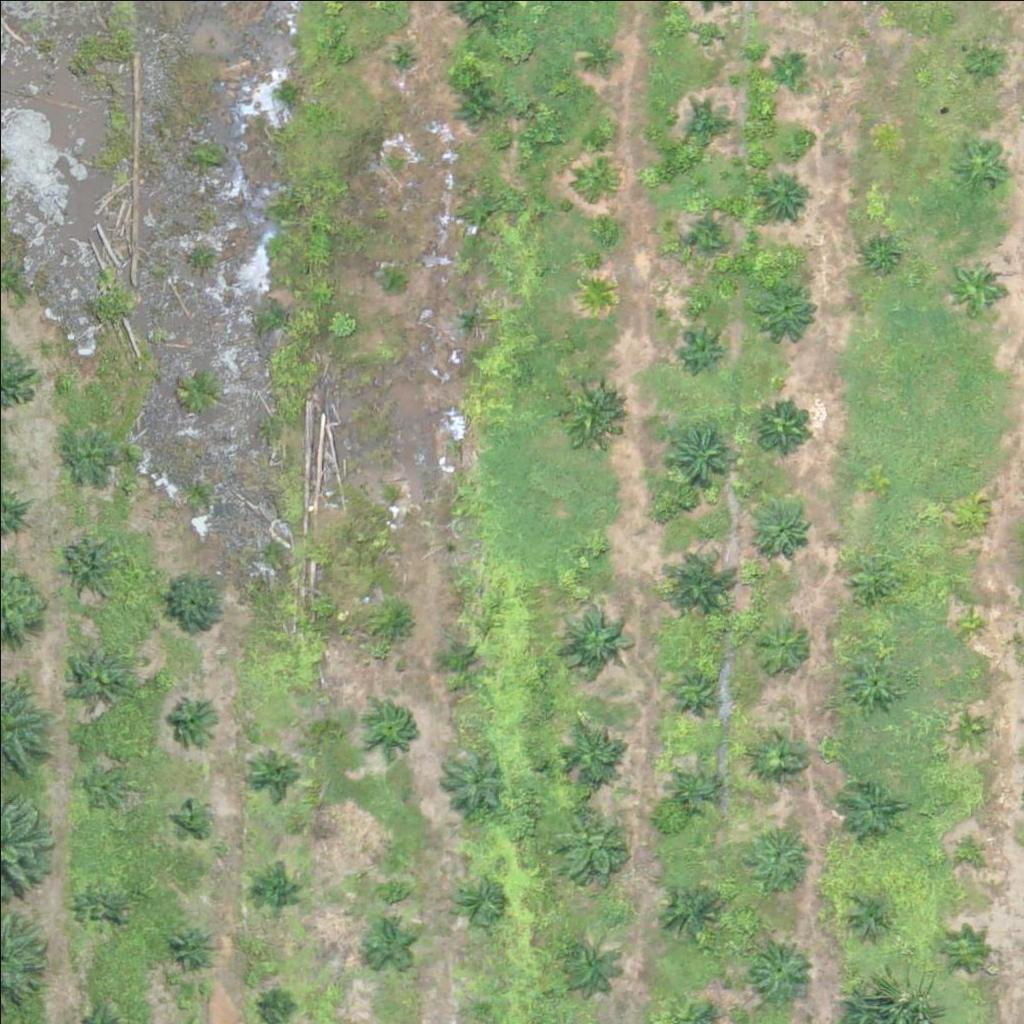Kelapa_Sawit: (655, 538, 742, 626), (559, 599, 634, 675), (664, 420, 739, 495), (951, 132, 1014, 195), (753, 614, 816, 677), (748, 821, 811, 884), (750, 497, 813, 560), (56, 531, 119, 594), (442, 748, 505, 811), (161, 572, 224, 635), (559, 380, 622, 443), (835, 778, 898, 841), (944, 255, 1007, 318), (839, 648, 902, 711), (750, 937, 812, 1000), (757, 277, 819, 340), (753, 394, 815, 457), (63, 641, 125, 704), (660, 877, 722, 940), (560, 720, 622, 783), (557, 811, 620, 873), (552, 932, 614, 995), (763, 168, 813, 219), (252, 747, 302, 798), (168, 693, 218, 744), (686, 98, 736, 149), (843, 886, 893, 937), (434, 634, 484, 685), (372, 599, 422, 650), (754, 728, 804, 778), (682, 319, 732, 369), (62, 425, 112, 475), (70, 882, 120, 932), (250, 865, 300, 915), (362, 920, 412, 970), (455, 877, 505, 927), (367, 702, 417, 752), (849, 560, 899, 610), (81, 763, 131, 813), (165, 923, 215, 973), (681, 205, 731, 255), (674, 666, 723, 717), (941, 929, 979, 967), (173, 800, 211, 838), (578, 274, 616, 312), (380, 37, 418, 75), (456, 85, 494, 123), (576, 152, 614, 190), (577, 32, 615, 70), (460, 194, 498, 232), (948, 828, 986, 866), (950, 709, 988, 747), (948, 602, 986, 640), (952, 502, 990, 540), (861, 231, 899, 269), (676, 770, 713, 808), (452, 300, 489, 338), (771, 48, 808, 86), (963, 43, 1000, 80), (265, 993, 290, 1018), (379, 273, 404, 298), (382, 482, 407, 507), (581, 535, 606, 560)
